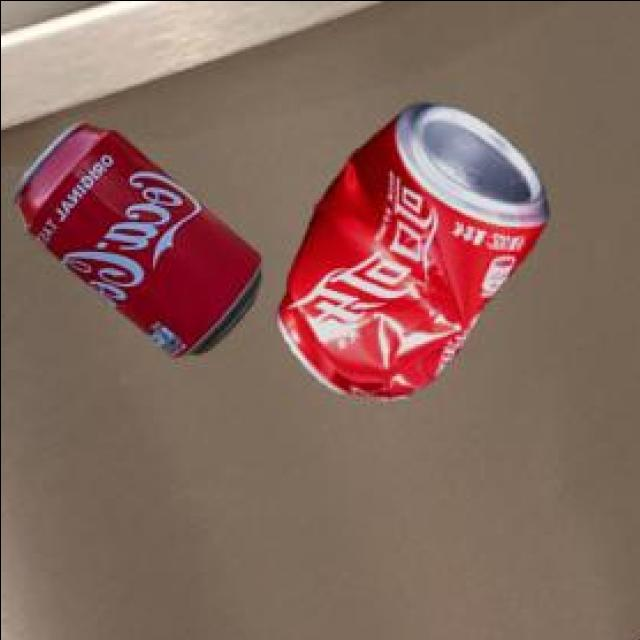logam: (280, 100, 551, 395), (17, 119, 264, 353)
